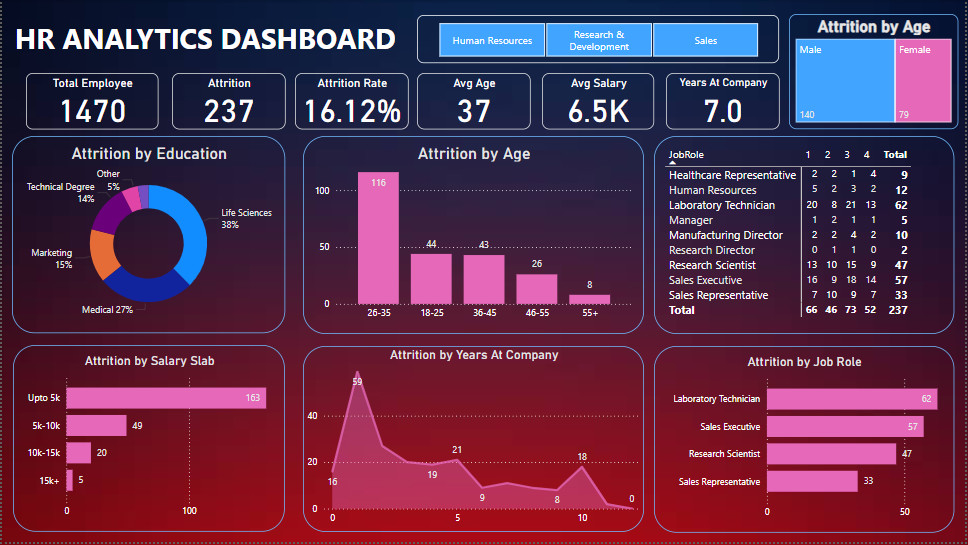

The dashboard page shown, as its layout file describes it:
{"tool":"powerbi","page":{"name":"Page 1","canvas":[1280,720],"ordinal":0},"visuals":[{"type":"card","title":"Total Employee ","fields":{"Values":["CountNonNull(HR_Analytics.EmpID)"]},"box":[32.2,96.6,175.6,74.6],"z":0},{"type":"card","title":"Attrition","fields":{"Values":["Sum(HR_Analytics.AttritionCount)"]},"box":[225.4,96.6,150.7,74.6],"z":1000},{"type":"card","title":"Attrition Rate","fields":{"Values":["HR_Analytics.AttritionRate"]},"box":[389.3,96.6,150.7,74.6],"z":2000},{"type":"card","title":"Avg Age","fields":{"Values":["Avg(HR_Analytics.Age)"]},"box":[551.7,96.6,150.7,74.6],"z":3000},{"type":"card","title":"Avg Salary","fields":{"Values":["Avg(HR_Analytics.MonthlyIncome)"]},"box":[717.1,96.6,149.3,74.6],"z":4000},{"type":"card","title":"Years At Company","fields":{"Values":["Avg(HR_Analytics.YearsAtCompany)"]},"box":[882.4,96.6,150.7,74.6],"z":5000},{"type":"donutChart","title":"Attrition by Education","fields":{"Category":["HR_Analytics.EducationField"],"Y":["Sum(HR_Analytics.AttritionCount)"]},"box":[13.8,181.7,363.4,261.5],"z":6000},{"type":"columnChart","title":"Attrition by Age","fields":{"Category":["HR_Analytics.AgeGroup"],"Y":["Sum(HR_Analytics.AttritionCount)"]},"box":[400.5,181.7,452.8,262.9],"z":7000},{"type":"pivotTable","fields":{"Rows":["HR_Analytics.JobRole"],"Columns":["HR_Analytics.JobSatisfaction"],"Values":["Sum(HR_Analytics.AttritionCount)"]},"box":[867.1,181.7,397.8,262.9],"z":8000},{"type":"barChart","title":"Attrition by Salary Slab","fields":{"Category":["HR_Analytics.SalarySlab"],"Y":["Sum(HR_Analytics.AttritionCount)"]},"box":[15.1,459.7,362,249.1],"z":9000},{"type":"clusteredBarChart","title":"Attrition by Job Role","fields":{"Y":["Sum(HR_Analytics.AttritionCount)"],"Category":["HR_Analytics.JobRole"]},"box":[865.7,459.7,397.8,249.1],"z":10000},{"type":"areaChart","title":"Attrition by Years At Company","fields":{"Category":["HR_Analytics.YearsAtCompany"],"Y":["Sum(HR_Analytics.AttritionCount)"]},"box":[400.5,459.7,452.8,247.7],"z":11000},{"type":"treemap","title":"Attrition by Age","fields":{"Group":["HR_Analytics.Gender"],"Values":["Sum(HR_Analytics.AttritionCount)"]},"box":[1044.9,19,235.6,152.2],"z":12000},{"type":"textbox","box":[0,20.5,540,87.8],"z":13000},{"type":"slicer","fields":{"Values":["HR_Analytics.Department"]},"box":[551.7,20.5,481.5,64.4],"z":14000}]}

Visuals, with their boxes in screenshot pixels (x1, y1, x2, y2), scaled from the page's 1280x720 canvas onto the 968x545 screenshot:
"Total Employee " card: box(24, 73, 157, 130)
"Attrition" card: box(170, 73, 284, 130)
"Attrition Rate" card: box(294, 73, 408, 130)
"Avg Age" card: box(417, 73, 531, 130)
"Avg Salary" card: box(542, 73, 655, 130)
"Years At Company" card: box(667, 73, 781, 130)
"Attrition by Education" donutChart: box(10, 138, 285, 335)
"Attrition by Age" columnChart: box(303, 138, 645, 337)
pivotTable - HR_Analytics.JobRole x HR_Analytics.JobSatisfaction: box(656, 138, 957, 337)
"Attrition by Salary Slab" barChart: box(11, 348, 285, 537)
"Attrition by Job Role" clusteredBarChart: box(655, 348, 956, 537)
"Attrition by Years At Company" areaChart: box(303, 348, 645, 535)
"Attrition by Age" treemap: box(790, 14, 967, 130)
textbox: box(0, 16, 408, 82)
slicer - HR_Analytics.Department: box(417, 16, 781, 64)
